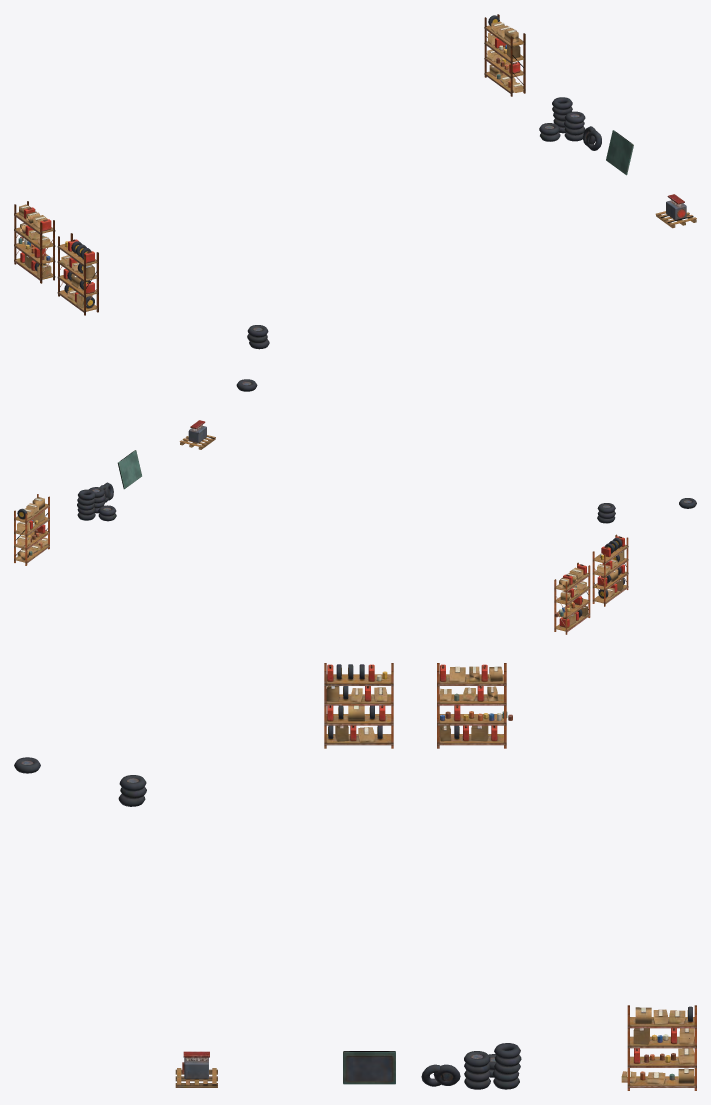
Rendered from ws_props.glb.
3 views of the same model, one above another, from view 1: azimuth 30°, elevation 25°; view 2: azimuth 150°, elevation 25°; view 3: azimuth 270°, elevation 25° (orthographic). The views are drawn at different scales.
Visible parts, largest first — view 1: shelves, tyres; view 2: shelves, tyres; view 3: shelves, tyres.
Boxes of the visible parts, <box> form: shelves: <box>14,14,525,315</box>; tyres: <box>236,97,696,391</box>; shelves: <box>14,494,628,634</box>; tyres: <box>77,420,696,523</box>; shelves: <box>324,663,696,1090</box>; tyres: <box>14,757,521,1089</box>.
Bounding box in the file's own units: 23.6 × 2.48 × 19.37.
1 material, 1 textured.
